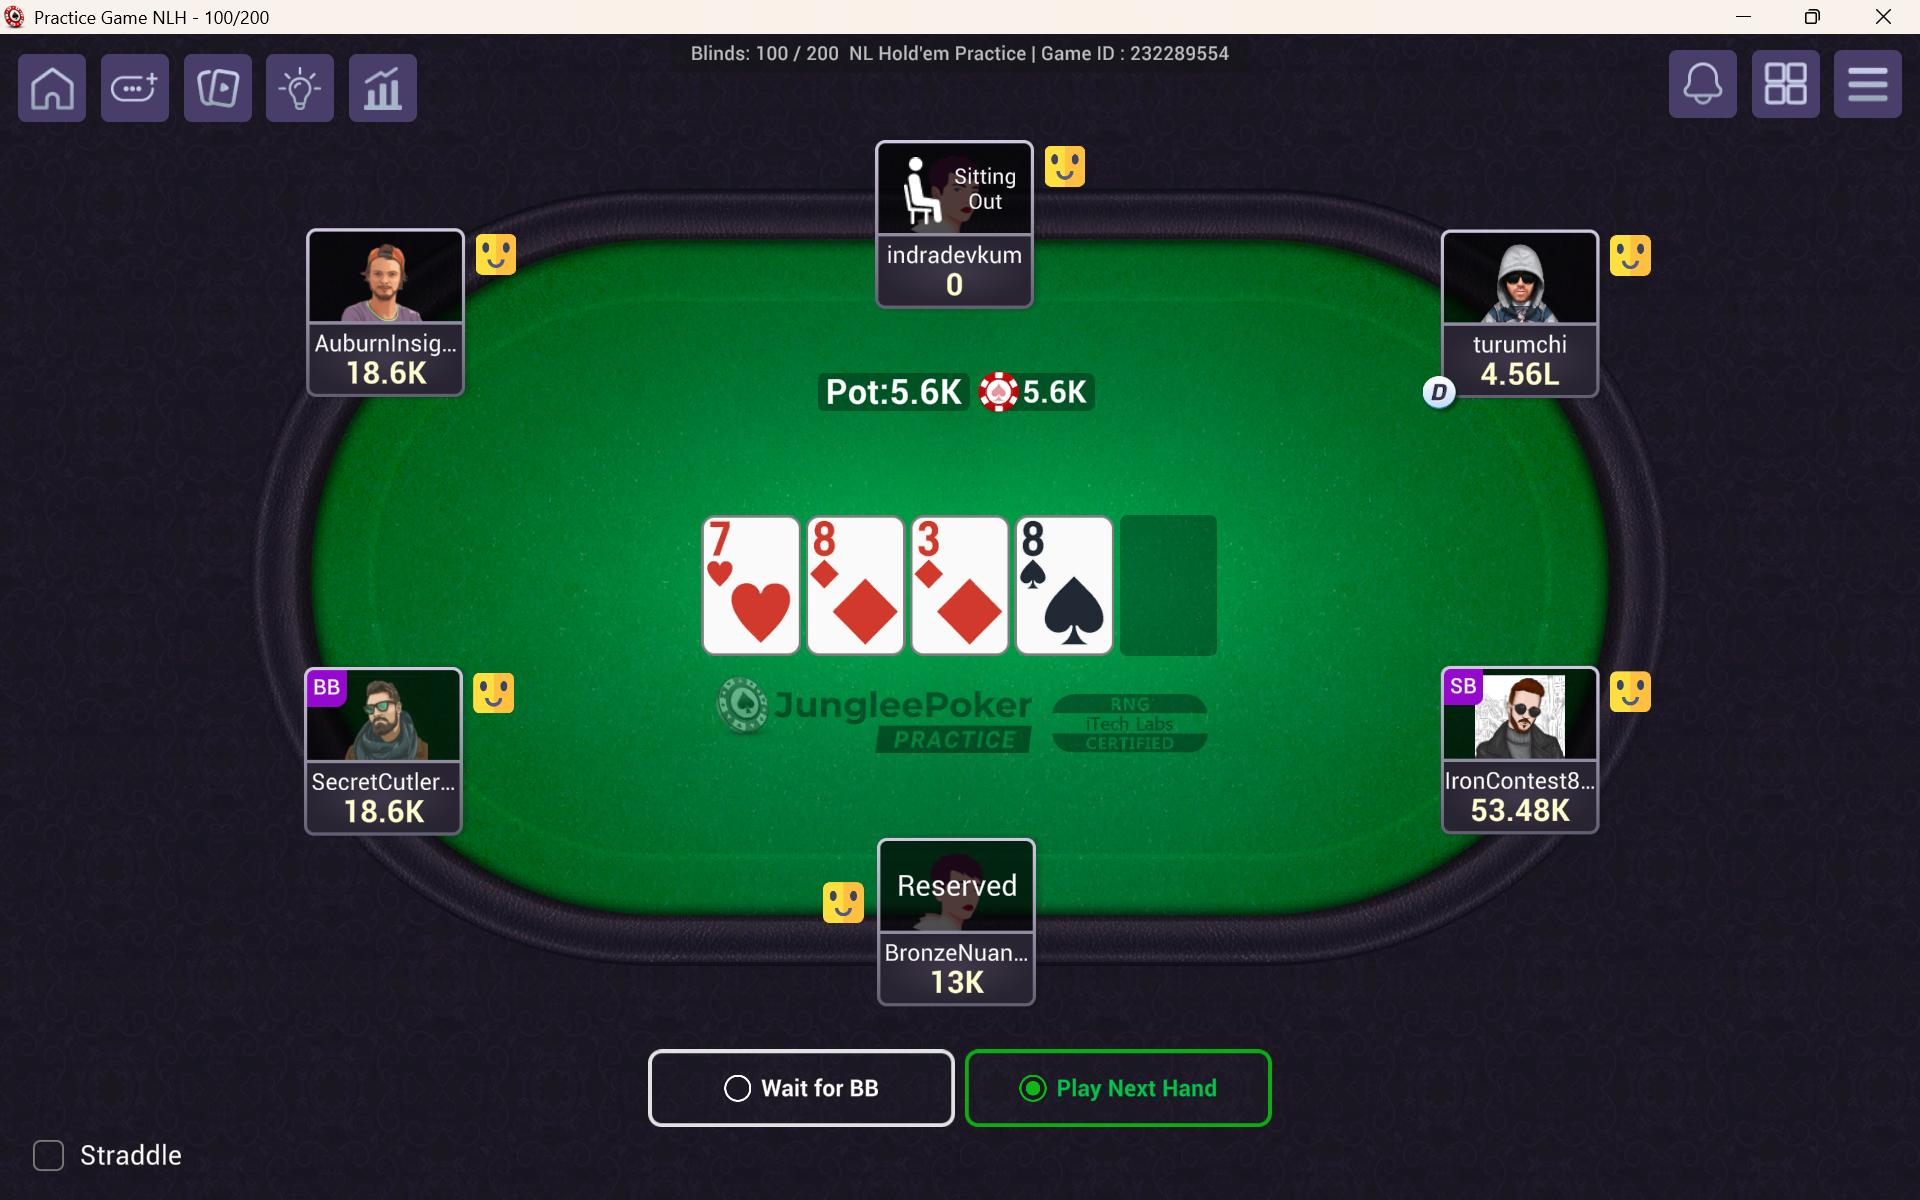flop1_rank: (705, 516, 748, 565)
flop1_suite_heart: (724, 565, 803, 647)
flop2_rank: (810, 513, 851, 565)
flop2_suite_diamond: (832, 563, 897, 648)
flop3_rank: (908, 513, 965, 565)
flop3_suite_diamond: (934, 568, 1006, 650)
game_id: (1033, 36, 1248, 75)
my_stack: (881, 958, 1028, 1011)
position_BB: (307, 666, 348, 706)
position_SB: (1438, 658, 1485, 713)
total_pot: (816, 364, 1099, 415)
turn_rank: (1033, 568, 1111, 655), (1017, 513, 1053, 567)
villian1_name: (310, 753, 460, 803)
villian1_stack: (310, 794, 456, 831)
villian2_name: (307, 326, 463, 358)
villian2_stack: (305, 354, 459, 401)
villian3_name: (878, 236, 1037, 270)
villian3_stack: (881, 268, 1034, 301)
villian4_name: (1443, 321, 1605, 357)
villian4_stack: (1444, 358, 1598, 395)
villian5_name: (1440, 759, 1591, 800)
villian5_stack: (1438, 791, 1598, 832)
